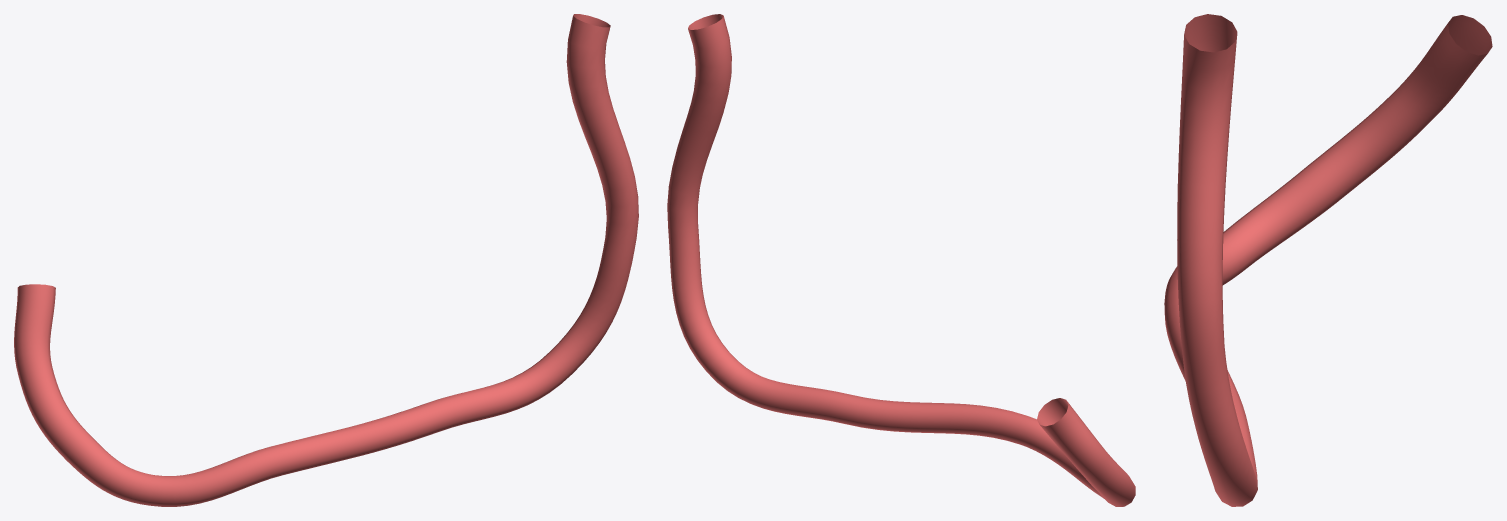
The model's file is Deep_palmar_arch.r_BezierCurve.278.glb.
3 renders of one model, left to right at view 1: azimuth 30°, elevation 25°; view 2: azimuth 150°, elevation 25°; view 3: azimuth 270°, elevation 25°, orthographic. The views are drawn at different scales.
Visible parts, largest first — view 1: Deep_palmar_arch.r_BezierCurve.278; view 2: Deep_palmar_arch.r_BezierCurve.278; view 3: Deep_palmar_arch.r_BezierCurve.278.
Part boxes in pixels (x1,y1,x2,y2): Deep_palmar_arch.r_BezierCurve.278: (14,14,638,506); Deep_palmar_arch.r_BezierCurve.278: (667,14,1135,506); Deep_palmar_arch.r_BezierCurve.278: (1164,14,1492,506).
Bounding box in the file's own units: 0.039 × 0.0272 × 0.0152.
